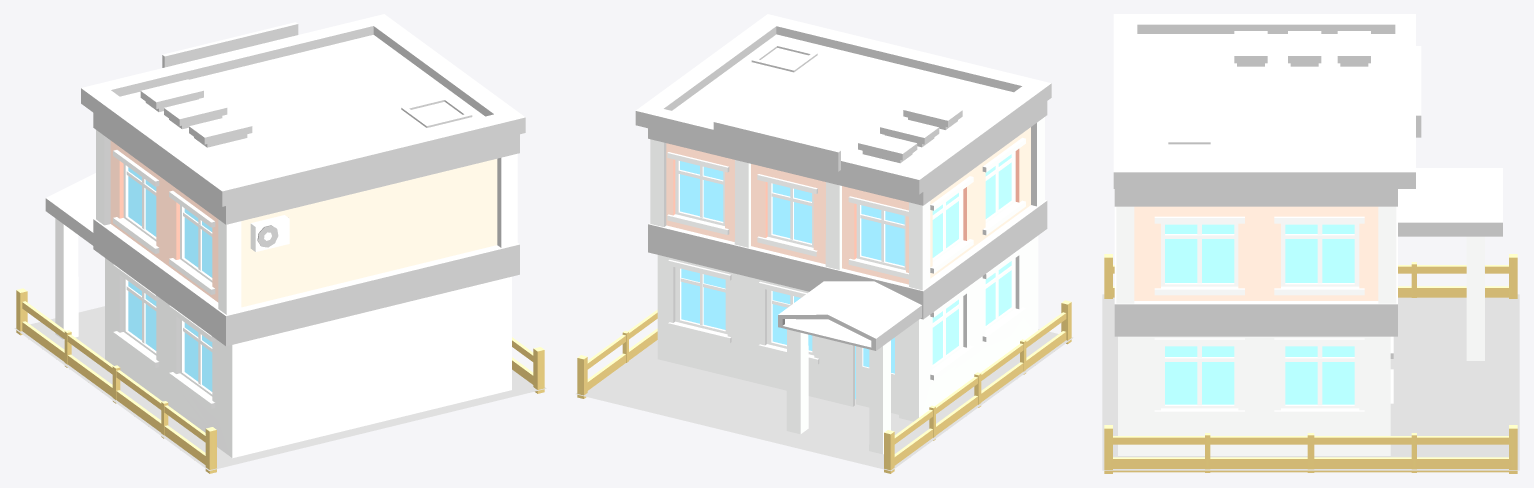
3 views of the same model, side by side, from view 1: azimuth 30°, elevation 25°; view 2: azimuth 150°, elevation 25°; view 3: azimuth 270°, elevation 25° (orthographic). The views are drawn at different scales.
Visible parts, largest first — view 1: bank.001 (2), tile_for_home_1x1.016 (22); view 2: bank.001 (2), tile_for_home_1x1.016 (22); view 3: bank.001 (2), tile_for_home_1x1.016 (22).
Boxes of the visible parts, <box> form: bank.001 (2): <box>45,14,525,458</box>; tile_for_home_1x1.016 (22): <box>14,288,546,473</box>; bank.001 (2): <box>635,14,1051,454</box>; tile_for_home_1x1.016 (22): <box>575,300,1073,473</box>; bank.001 (2): <box>1113,14,1502,455</box>; tile_for_home_1x1.016 (22): <box>1102,254,1519,473</box>.
Bounding box in the file's own units: 8 × 6.47 × 8.
Materials: 1 (1 with a texture image).
